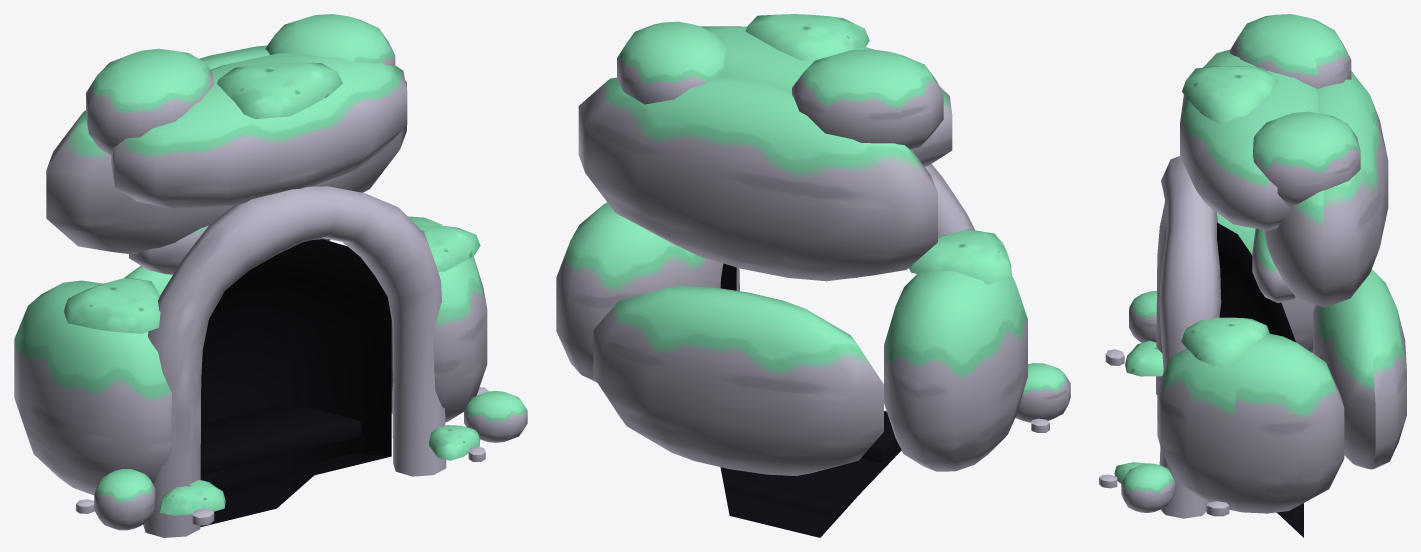
The model's file is cave_mouth.glb.
3 renders of one model, left to right at view 1: azimuth 30°, elevation 25°; view 2: azimuth 150°, elevation 25°; view 3: azimuth 270°, elevation 25°, orthographic. The views are drawn at different scales.
Visible parts, largest first — view 1: cave_mouth; view 2: cave_mouth; view 3: cave_mouth.
Boxes of the visible parts, left/top/right/bottom form: cave_mouth: left=14, top=14, right=527, bottom=537; cave_mouth: left=556, top=14, right=1070, bottom=537; cave_mouth: left=1099, top=14, right=1406, bottom=537.
Size of the model in its own units: 7.06 by 7.55 by 4.65.
2 materials, 2 textured.
